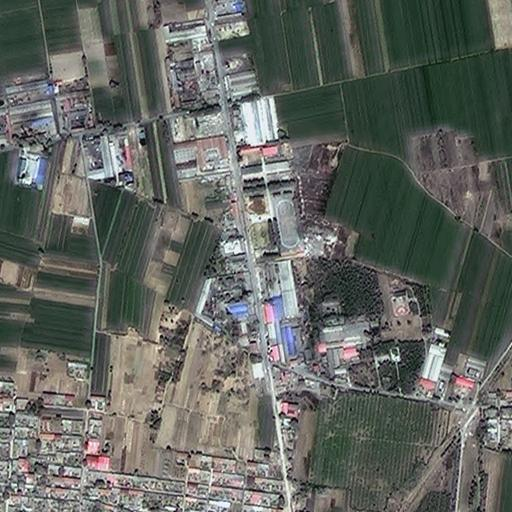school: (235, 144, 302, 258)
